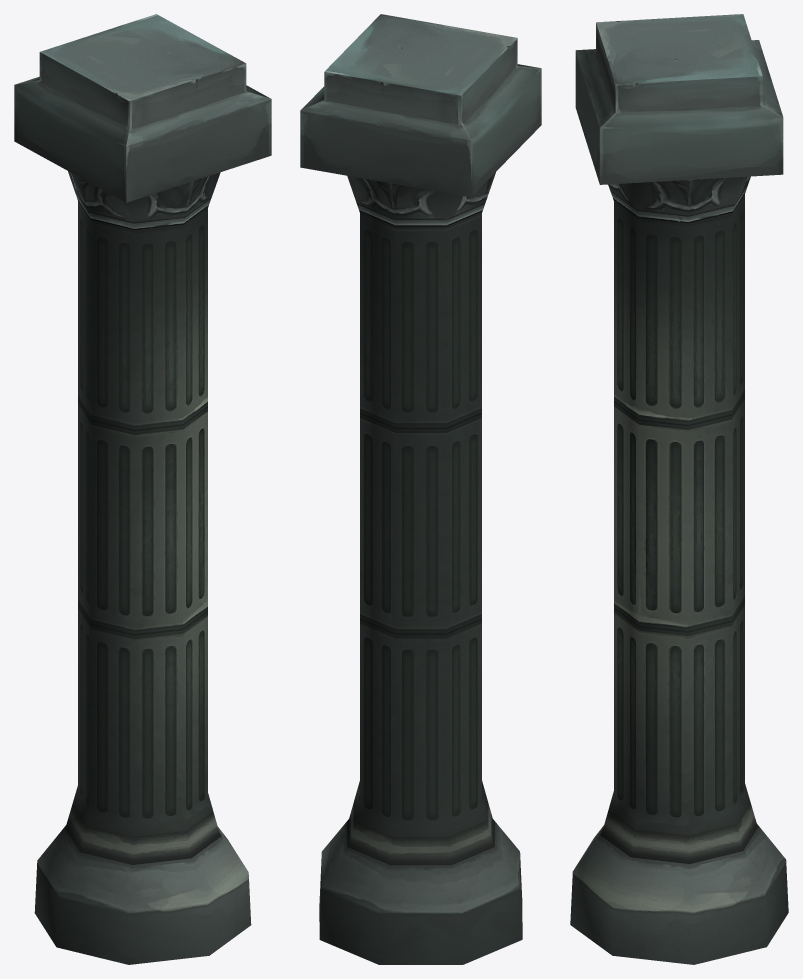
File: SJBoss_Shizhu_01.FBX
3 views of the same model, side by side, from view 1: azimuth 30°, elevation 25°; view 2: azimuth 150°, elevation 25°; view 3: azimuth 270°, elevation 25° (orthographic).
Parts seen in each view (by area): view 1: SJBoss_Shizhu_01; view 2: SJBoss_Shizhu_01; view 3: SJBoss_Shizhu_01.
Boxes of the visible parts, x1,y1,x2,y2 form: SJBoss_Shizhu_01: (14,14,271,964); SJBoss_Shizhu_01: (300,14,541,964); SJBoss_Shizhu_01: (570,14,788,964).
Bounding box in the file's own units: 70.59 × 310 × 70.59.
